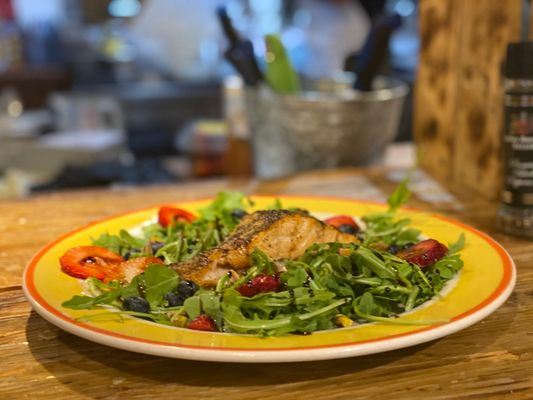pizza: (411, 1, 526, 212)
sushi: (247, 84, 409, 176)
